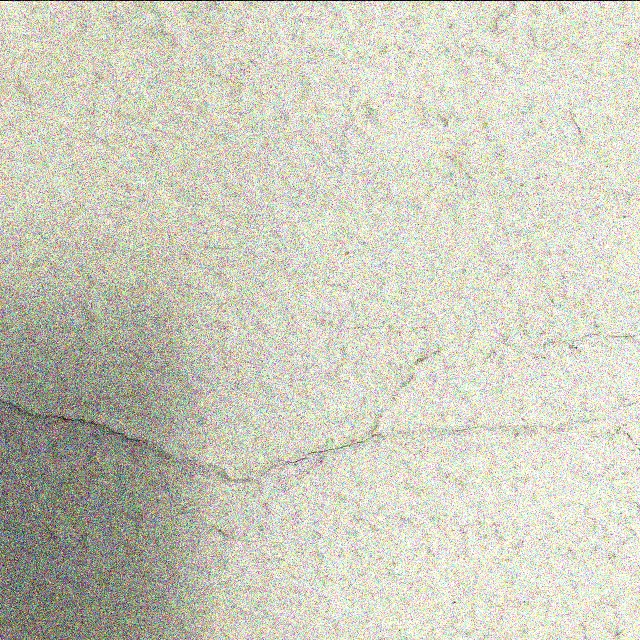SurfaceCrack: (1, 313, 640, 506)
